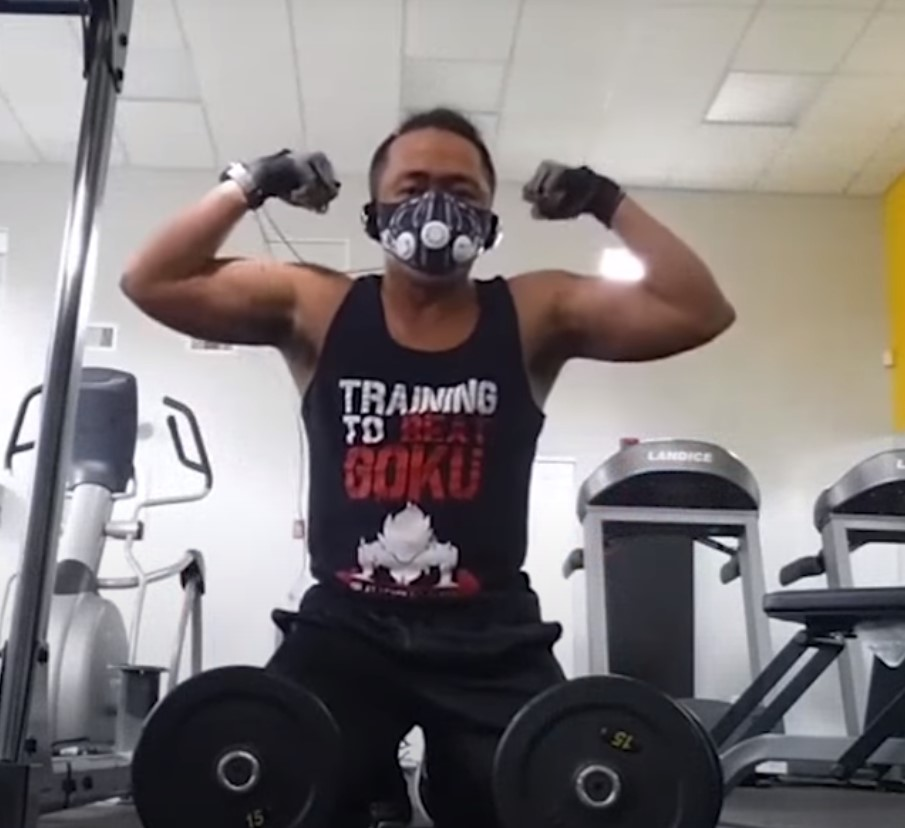face_with_mask: (364, 111, 498, 279)
